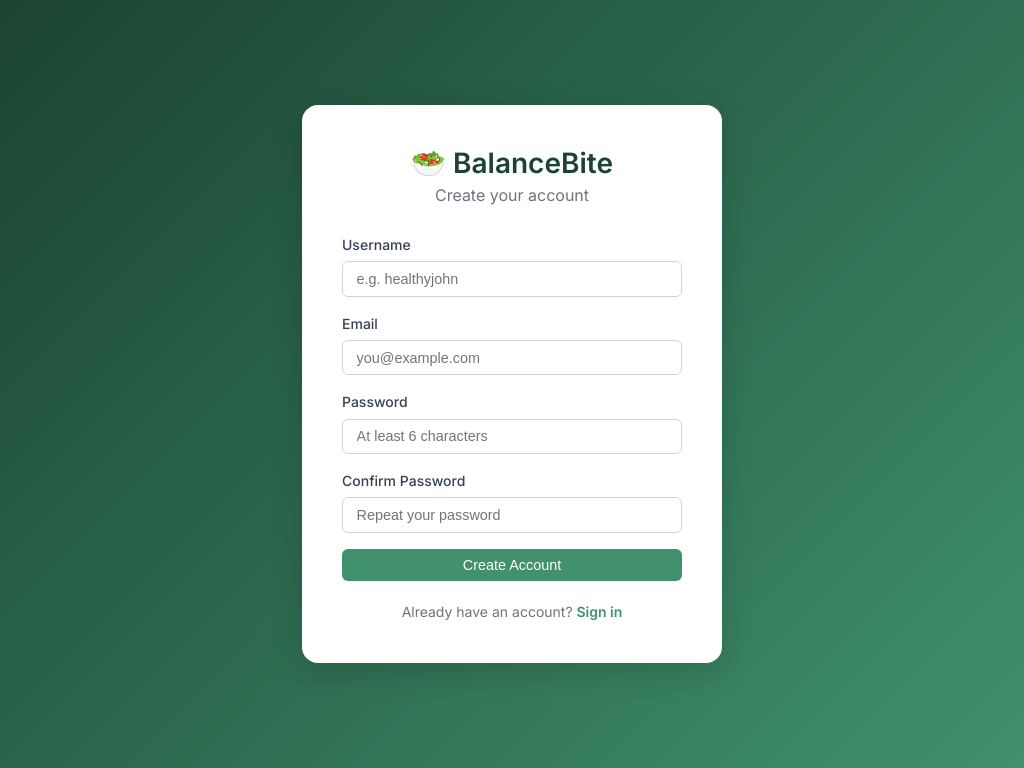
Test: SignUp page › shows an error when email is already in use
This screenshot has width=1024, height=768.
Type "testuser" into the field labelled "Username" at (512, 279), box [342,261,682,297]
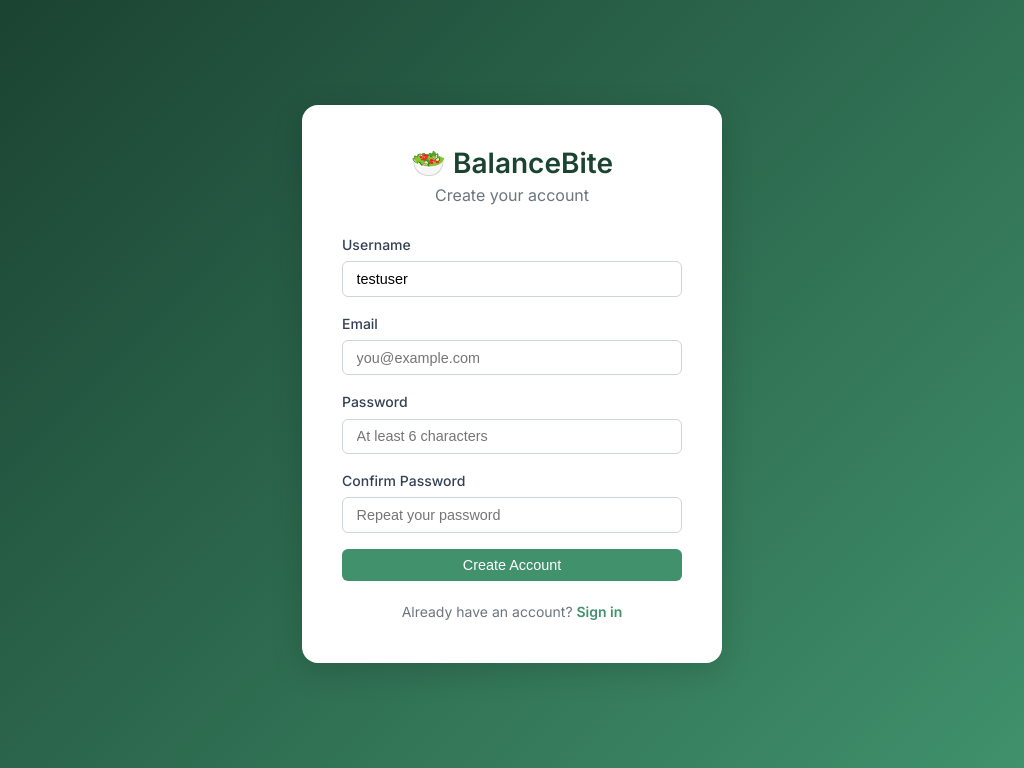
Type "existing@test.com" into the field labelled "Email" at (512, 358), box [342,340,682,375]
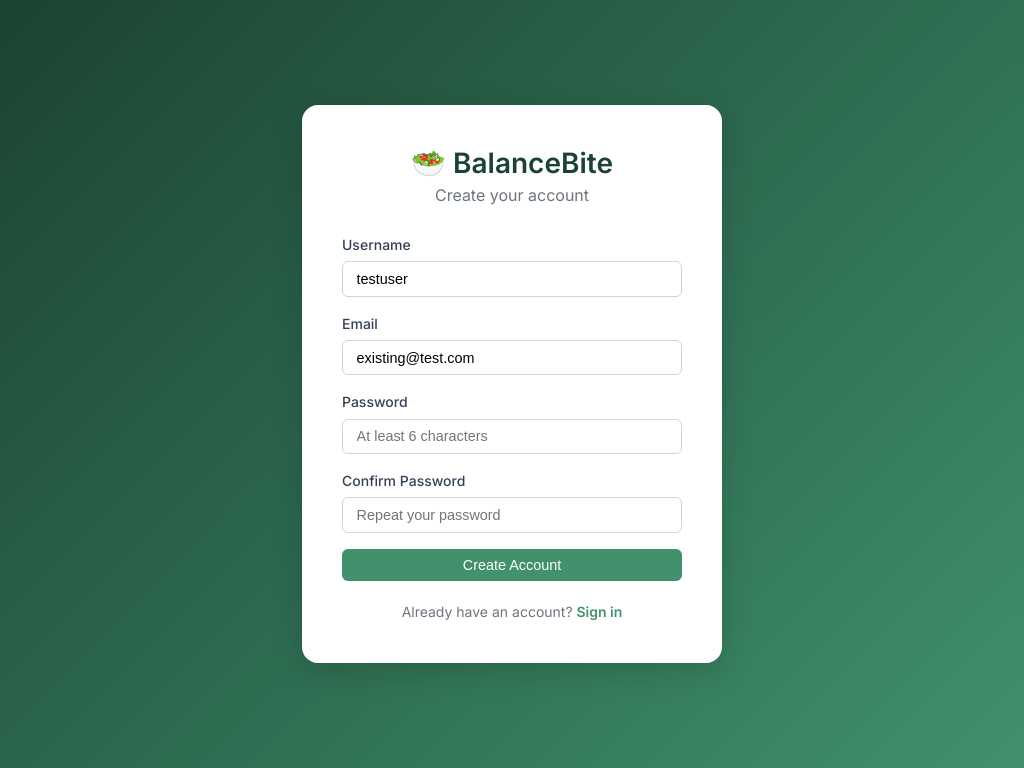
Type "password1" into the password field labelled "Password" at (512, 436), box [342,419,682,454]
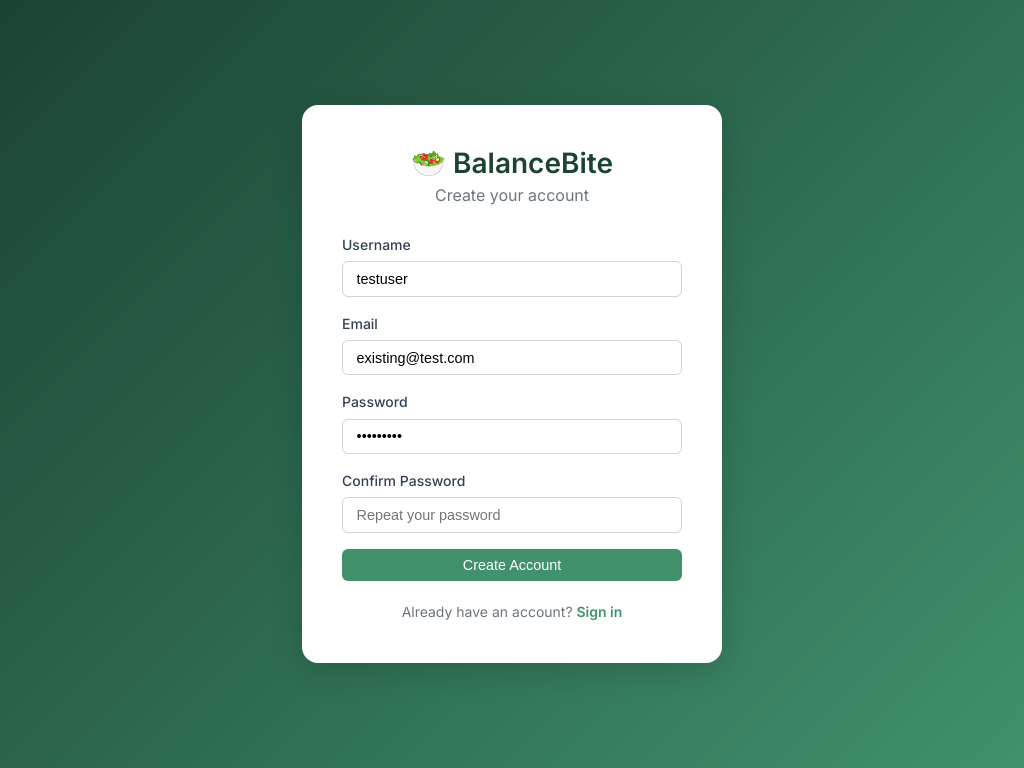
Type "password1" into the password field labelled "Confirm Password" at (512, 515), box [342,497,682,533]
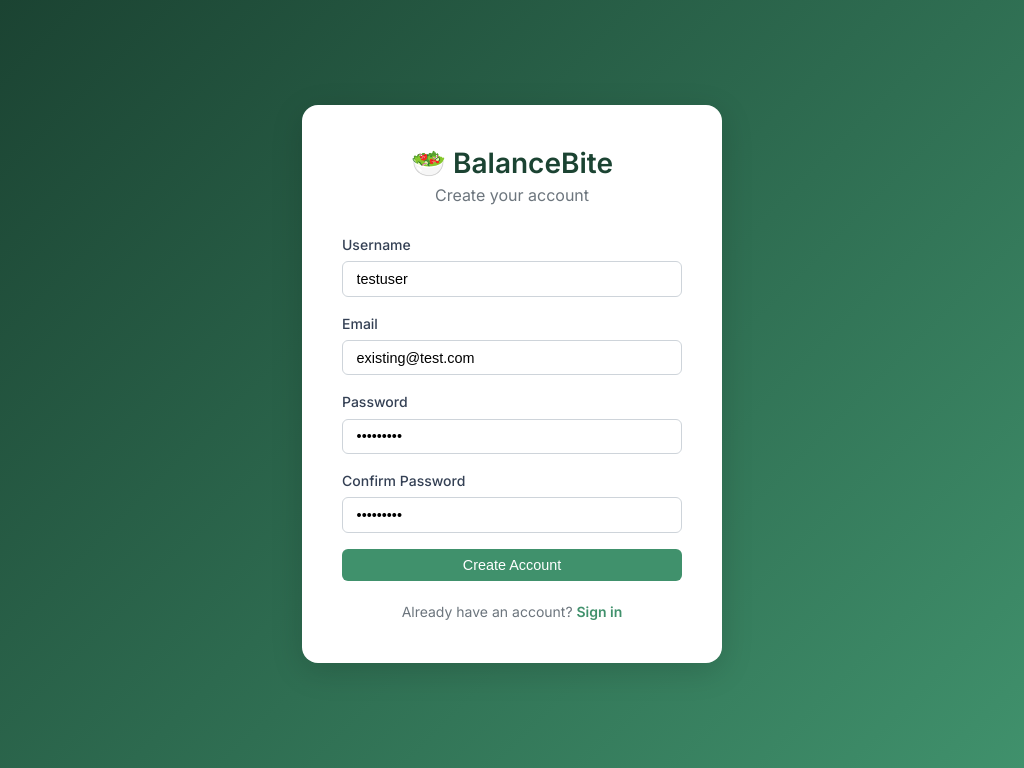
Click the button "Create Account" at (512, 565), box [342,549,682,581]
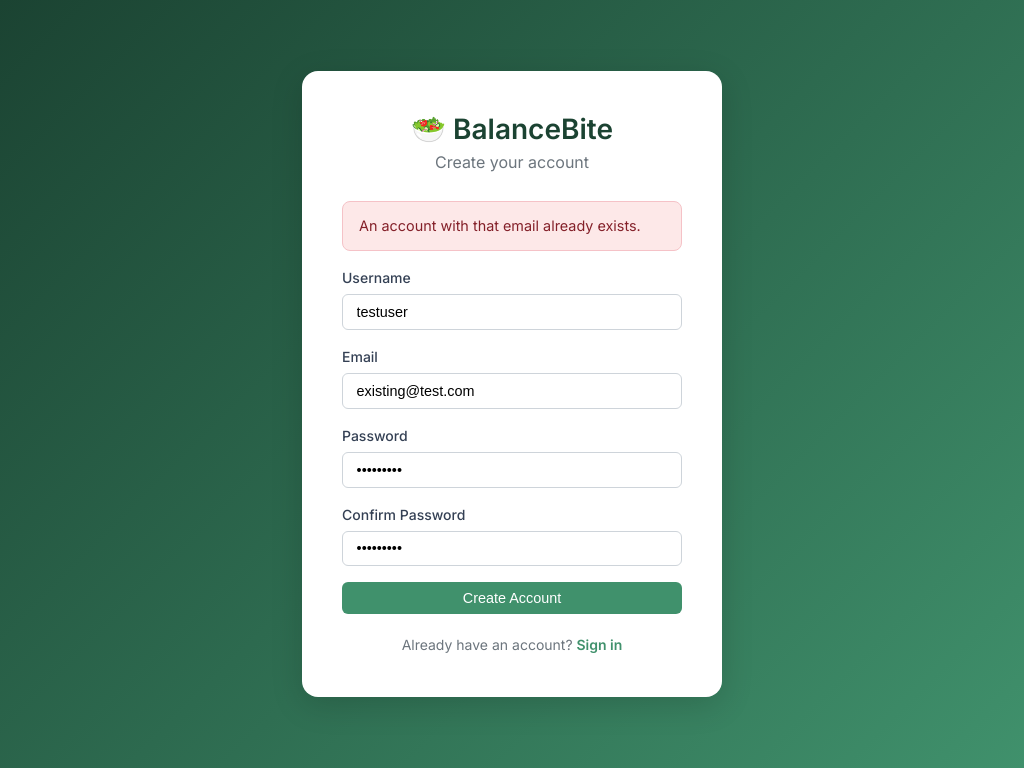
Expected: the message shows "already exists", [359,217,641,234]
